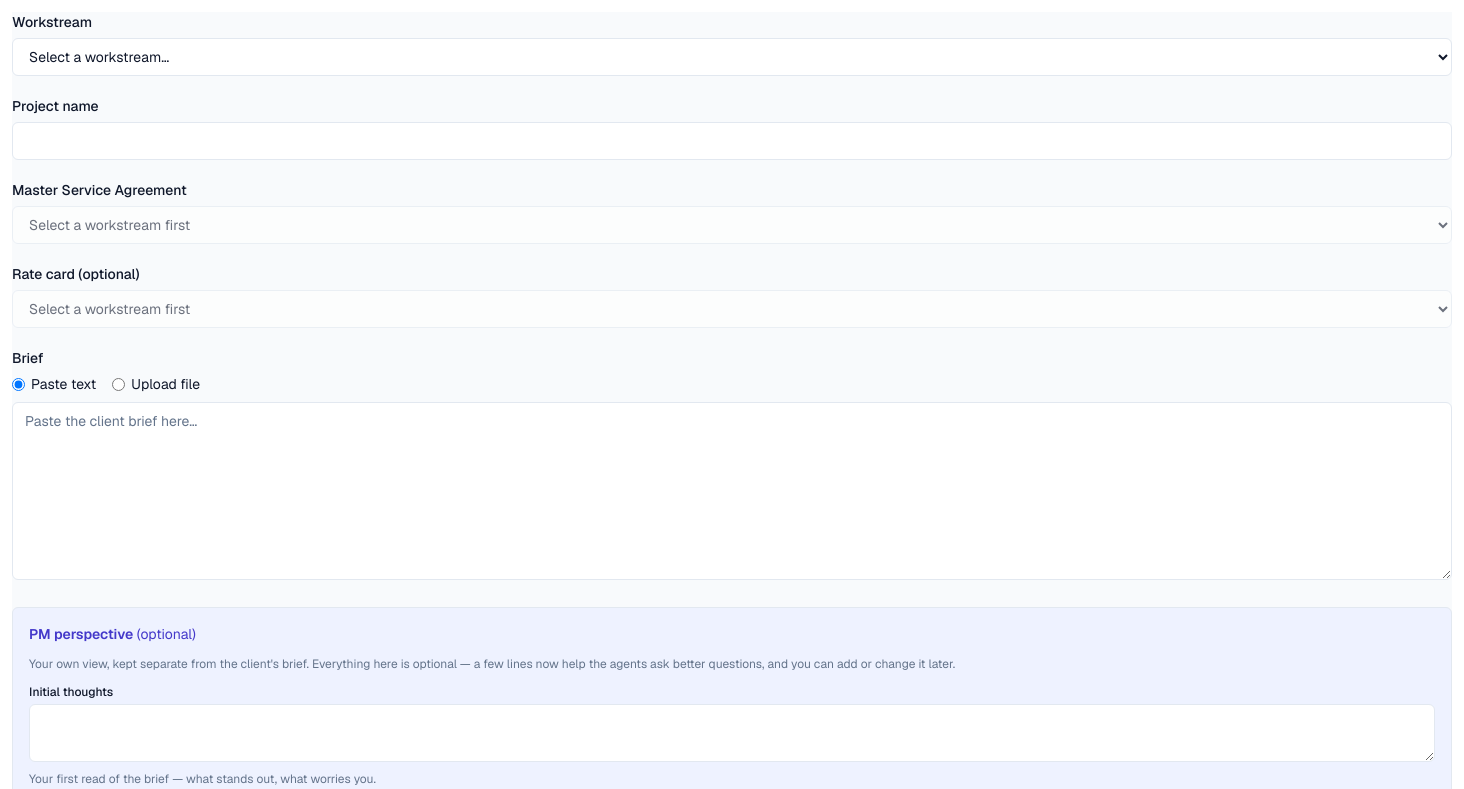
Test: NewProjectForm — Rate Card select › presents a version select, pre-selecting the version flagged current, once a Rate Card with versions is chosen
Select "Coffee / Coffee Loyalty App" in the dropdown labelled "Workstream": coordinates (732, 57) [12,38,1452,76]
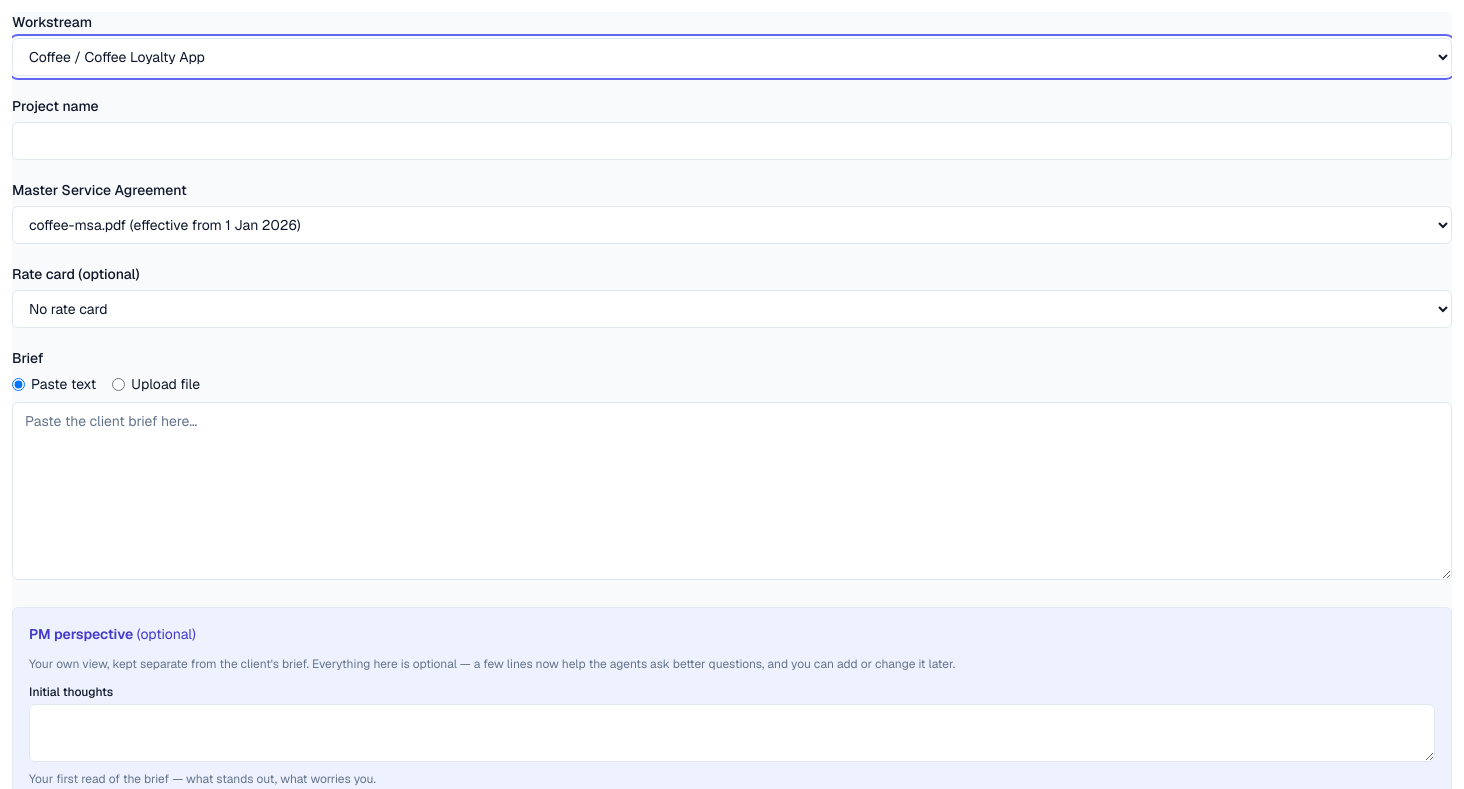
Select "2026 Standard Rates (GBP)" in the dropdown labelled "Rate card (optional)": coordinates (732, 309) [12,290,1452,328]
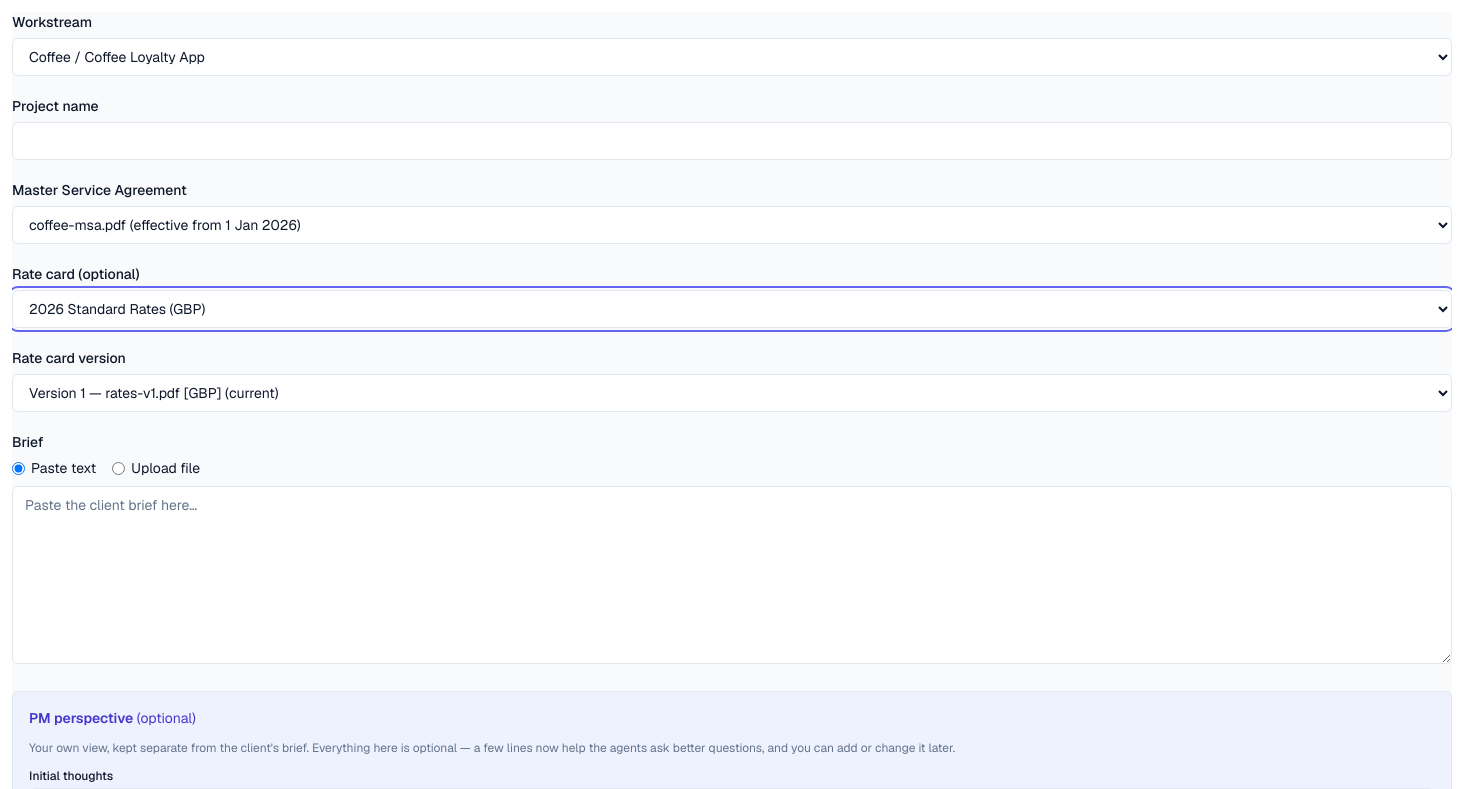
Check: the dropdown labelled "Rate card version" shows "Version 1 — rates-v1.pdf [GBP] (current)", box [12,374,1452,412]
